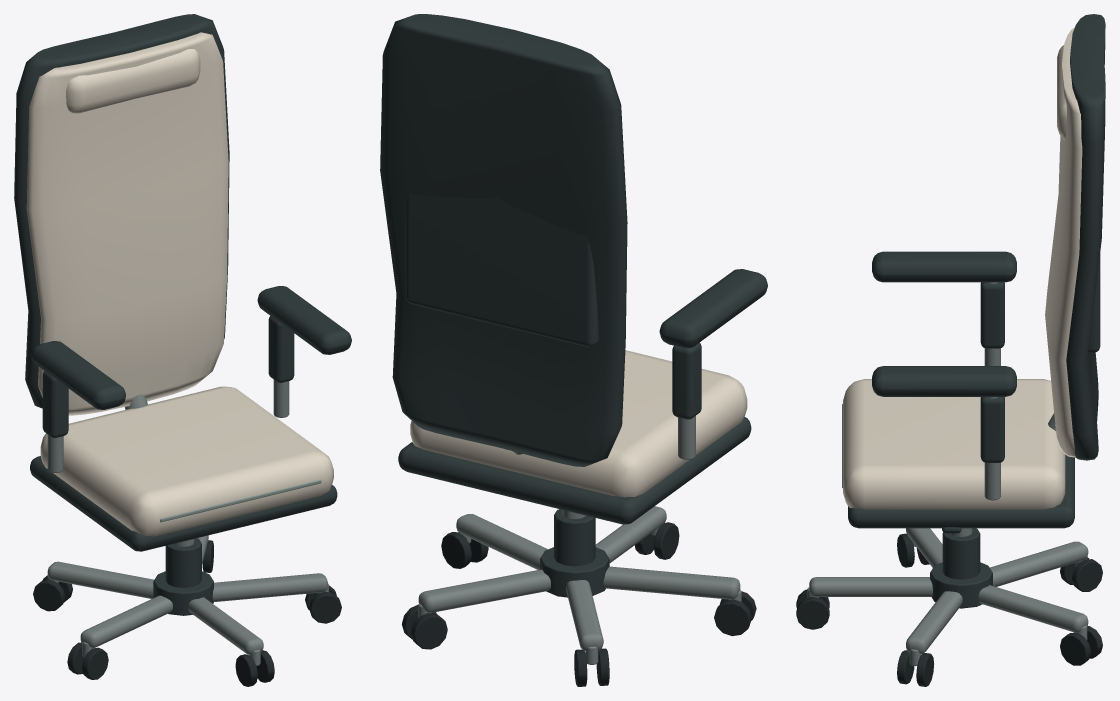
Rendered from office-chair-executive.glb.
3 views of the same model, side by side, from view 1: azimuth 30°, elevation 25°; view 2: azimuth 150°, elevation 25°; view 3: azimuth 270°, elevation 25° (orthographic). The views are drawn at different scales.
Visible parts, largest first — view 1: Back - lumbar upholstery.001, Seat - sculpted waterfall cushion.001, Back - contoured shell.001, Seat - thin rounded shell.001, Back - padded head support, Arm - soft rounded pad.003, Arm - soft rounded pad.002, Base - radial spoke.006, Base - radial spoke.008, Base - radial spoke.009, Base - radial spoke.005, Lift - lower sleeve.001 (+10 smaller); view 2: Back - contoured shell.001, Back - rear grip and spine.001, Seat - sculpted waterfall cushion.001, Seat - thin rounded shell.001, Arm - soft rounded pad.002, Base - radial spoke.009, Base - radial spoke.007, Base - radial spoke.006, Arm - adjustable sleeve.002, Lift - lower sleeve.001, Base - central hub.001, Base - radial spoke.008 (+6 smaller); view 3: Seat - sculpted waterfall cushion.001, Back - contoured shell.001, Back - lumbar upholstery.001, Seat - thin rounded shell.001, Arm - soft rounded pad.002, Arm - soft rounded pad.003, Base - radial spoke.005, Base - radial spoke.007, Base - radial spoke.008, Lift - lower sleeve.001, Arm - adjustable sleeve.002, Arm - adjustable sleeve.003 (+11 smaller).
Boxes of the visible parts, <box> form: Back - lumbar upholstery.001: <box>26,32,228,415</box>; Seat - sculpted waterfall cushion.001: <box>40,386,333,536</box>; Back - contoured shell.001: <box>14,14,229,408</box>; Seat - thin rounded shell.001: <box>30,456,337,551</box>; Back - padded head support: <box>66,49,200,113</box>; Arm - soft rounded pad.003: <box>257,286,351,354</box>; Arm - soft rounded pad.002: <box>31,341,125,409</box>; Base - radial spoke.006: <box>212,573,327,601</box>; Base - radial spoke.008: <box>47,561,153,598</box>; Base - radial spoke.009: <box>80,595,172,647</box>; Base - radial spoke.005: <box>188,597,263,654</box>; Lift - lower sleeve.001: <box>165,538,201,587</box>; Back - contoured shell.001: <box>380,14,627,466</box>; Back - rear grip and spine.001: <box>405,193,598,347</box>; Seat - sculpted waterfall cushion.001: <box>410,350,747,497</box>; Seat - thin rounded shell.001: <box>398,417,751,524</box>; Arm - soft rounded pad.002: <box>659,269,767,348</box>; Base - radial spoke.009: <box>603,566,740,599</box>; Base - radial spoke.007: <box>418,569,550,612</box>; Base - radial spoke.006: <box>456,514,547,569</box>; Arm - adjustable sleeve.002: <box>672,342,701,419</box>; Lift - lower sleeve.001: <box>554,509,595,566</box>; Base - central hub.001: <box>540,547,609,597</box>; Base - radial spoke.008: <box>566,580,603,650</box>; Seat - sculpted waterfall cushion.001: <box>843,379,1065,509</box>; Back - contoured shell.001: <box>1066,14,1105,460</box>; Back - lumbar upholstery.001: <box>1045,27,1082,457</box>; Seat - thin rounded shell.001: <box>848,454,1074,528</box>; Arm - soft rounded pad.002: <box>872,251,1016,282</box>; Arm - soft rounded pad.003: <box>872,366,1016,396</box>; Base - radial spoke.005: <box>809,577,932,596</box>; Base - radial spoke.007: <box>978,585,1088,632</box>; Base - radial spoke.008: <box>990,541,1088,586</box>; Lift - lower sleeve.001: <box>942,528,980,579</box>; Arm - adjustable sleeve.002: <box>980,282,1004,348</box>; Arm - adjustable sleeve.003: <box>980,397,1004,462</box>.
Size of the model in its own units: 0.6673 by 1.3 by 0.6398.
